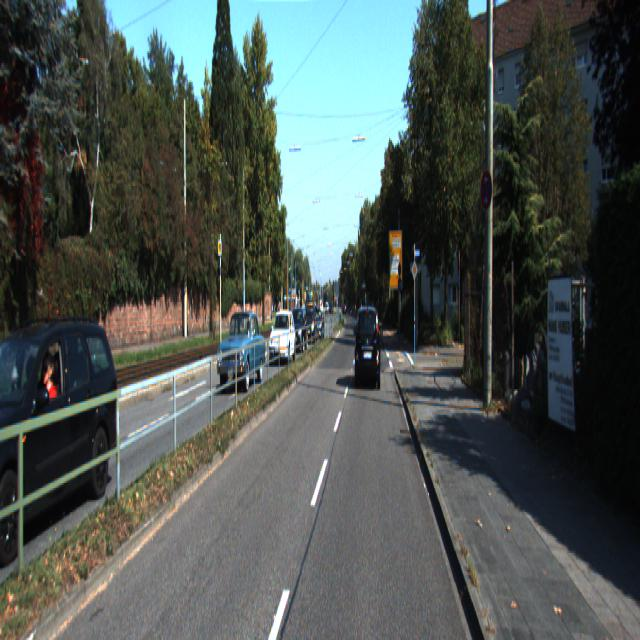Car: (0, 312, 123, 560), (217, 310, 267, 390), (355, 304, 382, 391), (268, 310, 296, 368), (288, 306, 309, 354), (302, 306, 318, 346)
